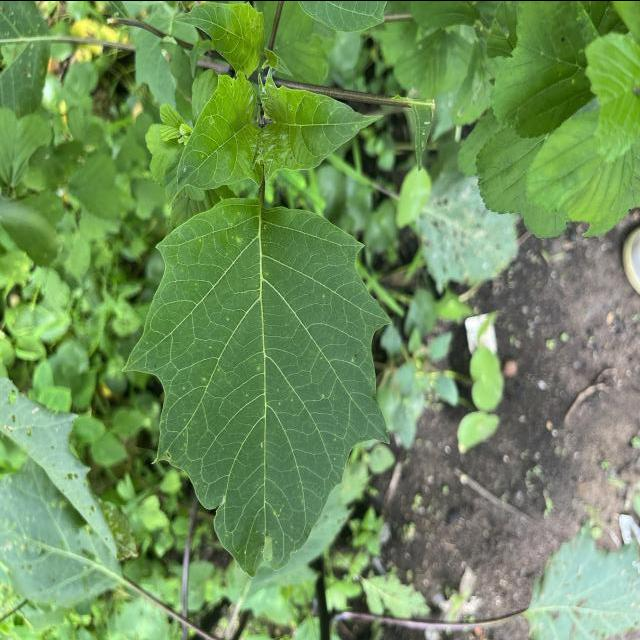Datura metal linn: (118, 193, 396, 582), (248, 61, 386, 188), (163, 66, 264, 208), (170, 0, 268, 81)
